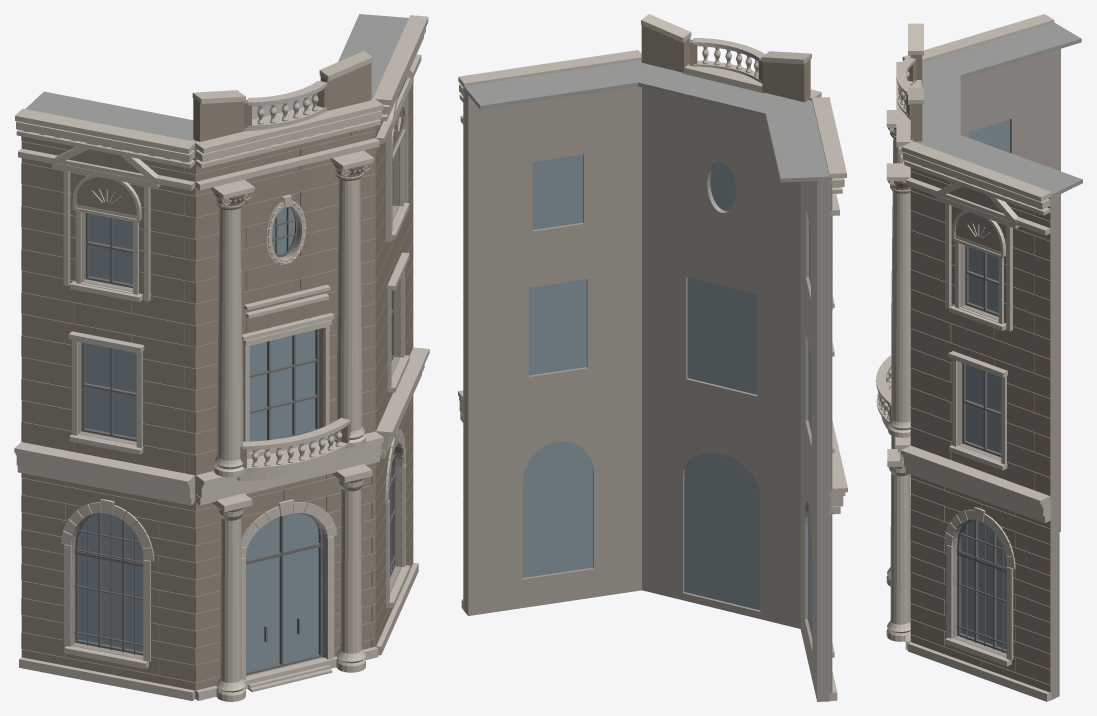
Rendered from huangpu-ningpo-commercial-bank-corner-lod.glb.
3 renders of one model, left to right at view 1: azimuth 30°, elevation 25°; view 2: azimuth 150°, elevation 25°; view 3: azimuth 270°, elevation 25°, orthographic. The views are drawn at different scales.
Parts seen in each view (by area): view 1: 四明银行北京东路转角门楼; view 2: 四明银行北京东路转角门楼; view 3: 四明银行北京东路转角门楼.
Part boxes in pixels (x1,y1,x2,y2): 四明银行北京东路转角门楼: (14, 14, 429, 701); 四明银行北京东路转角门楼: (458, 14, 847, 701); 四明银行北京东路转角门楼: (876, 14, 1082, 701).
Bounding box in the file's own units: 13.63 × 18.93 × 6.47.
Materials: 6 (1 with a texture image).
